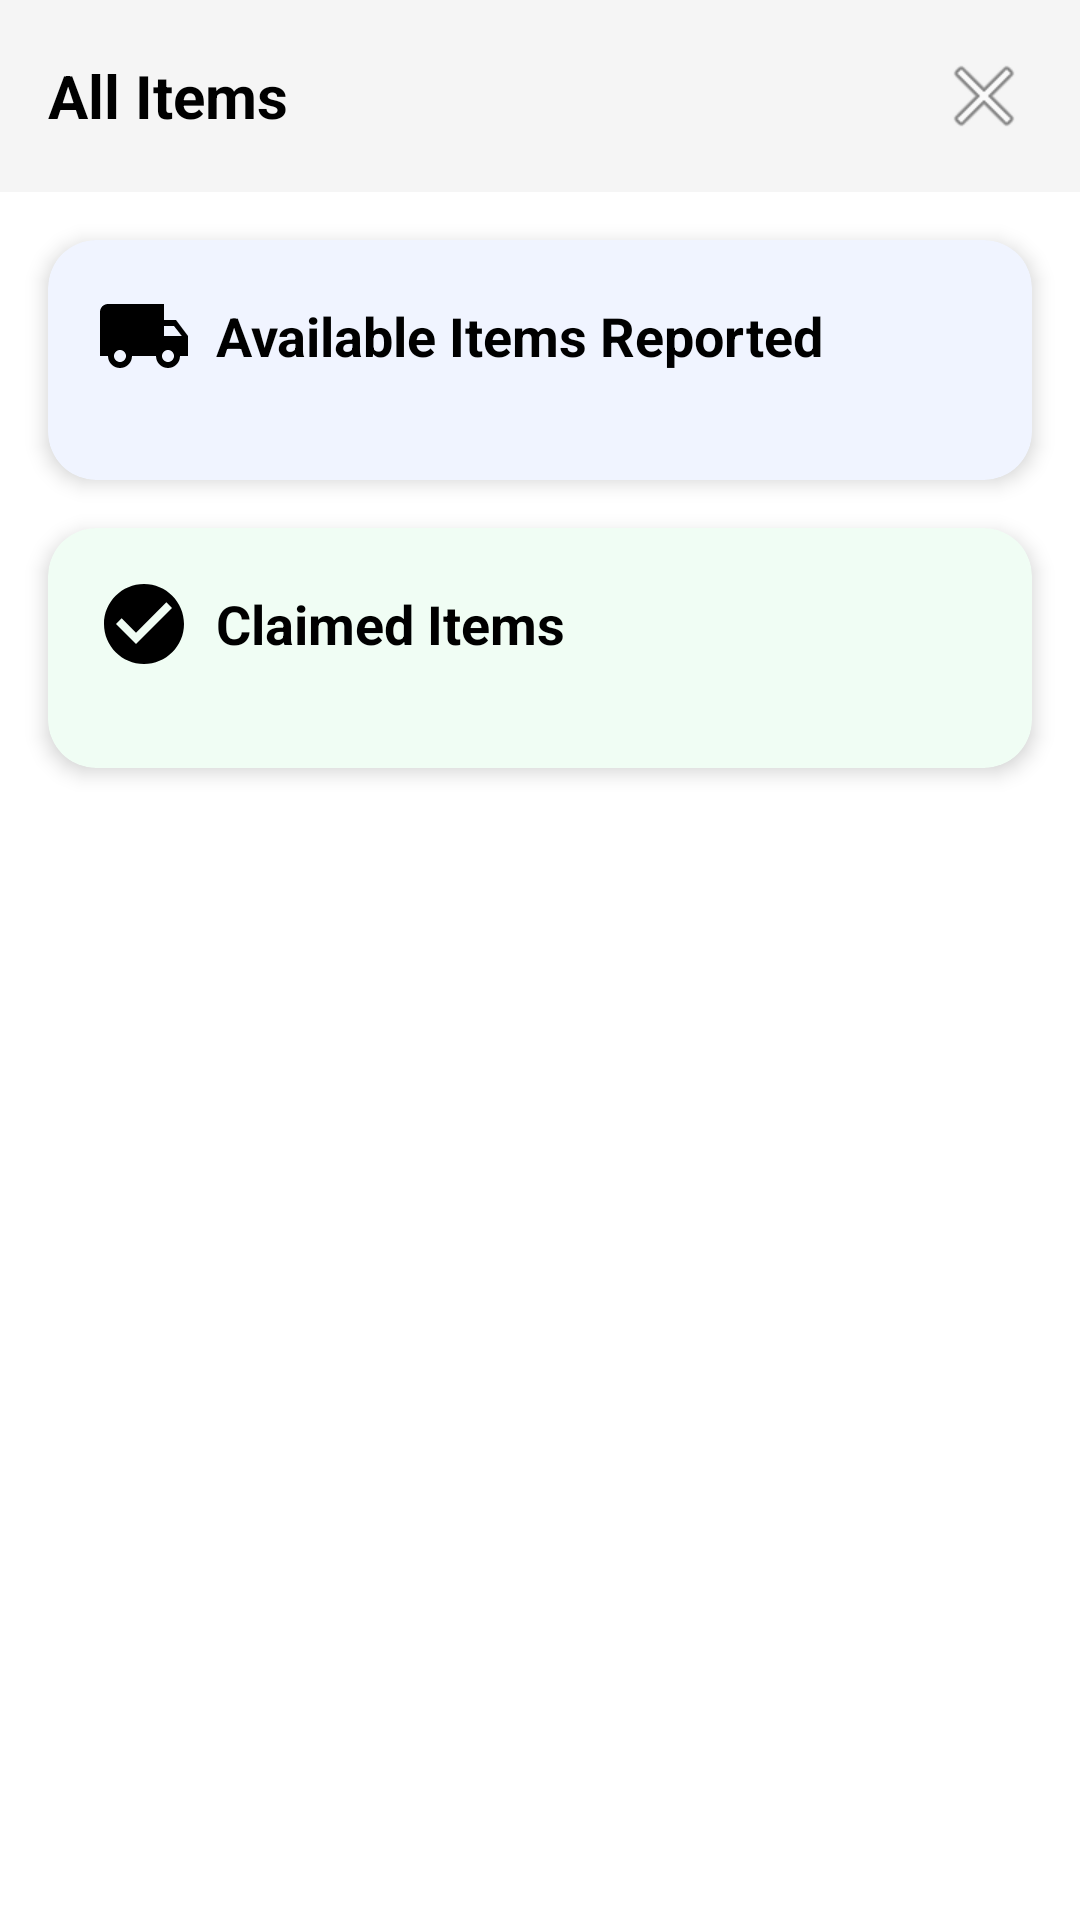

Named icons in this screenshot (1080x1920) and their bounding boxes, (x1, y1, x2, y2):
Close: (954, 66, 1014, 126)
Package Check Icon: (104, 584, 184, 664)
Package Icon: (100, 304, 188, 368)
